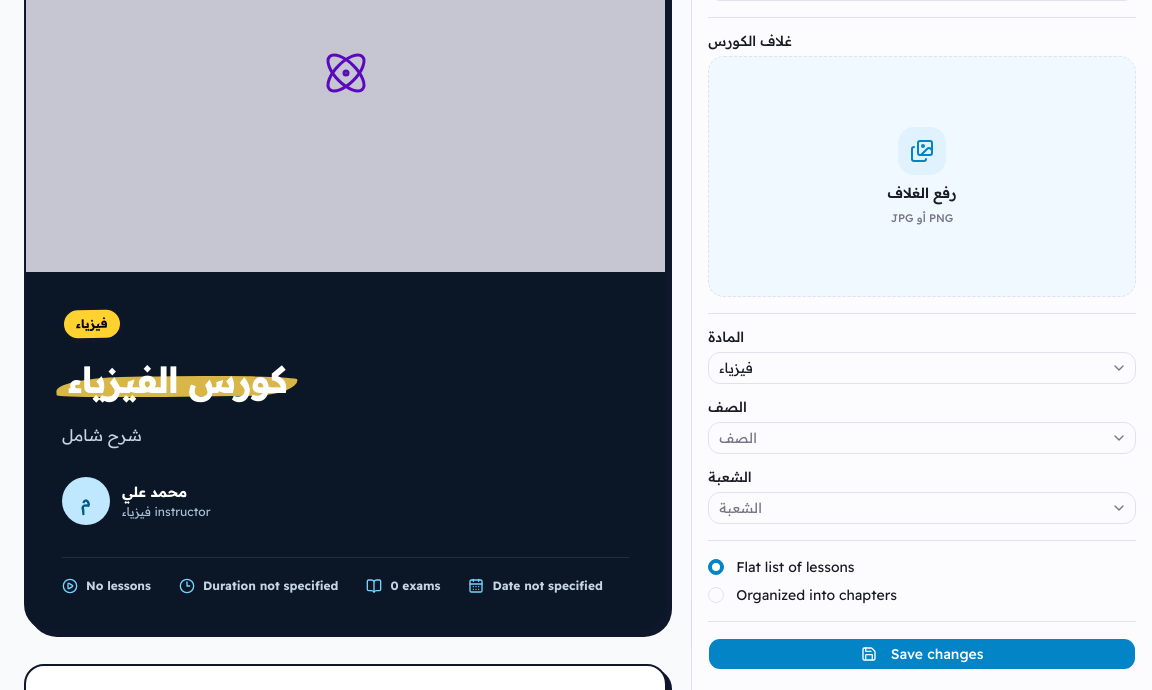
Scenario: CourseWorkspace › requires confirmation before changing chapter mode
(page scrolled)
Click the radio button named "Organized into chapters" next to "Organized into chapters" at (716, 595), box 708,587 -> 724,603
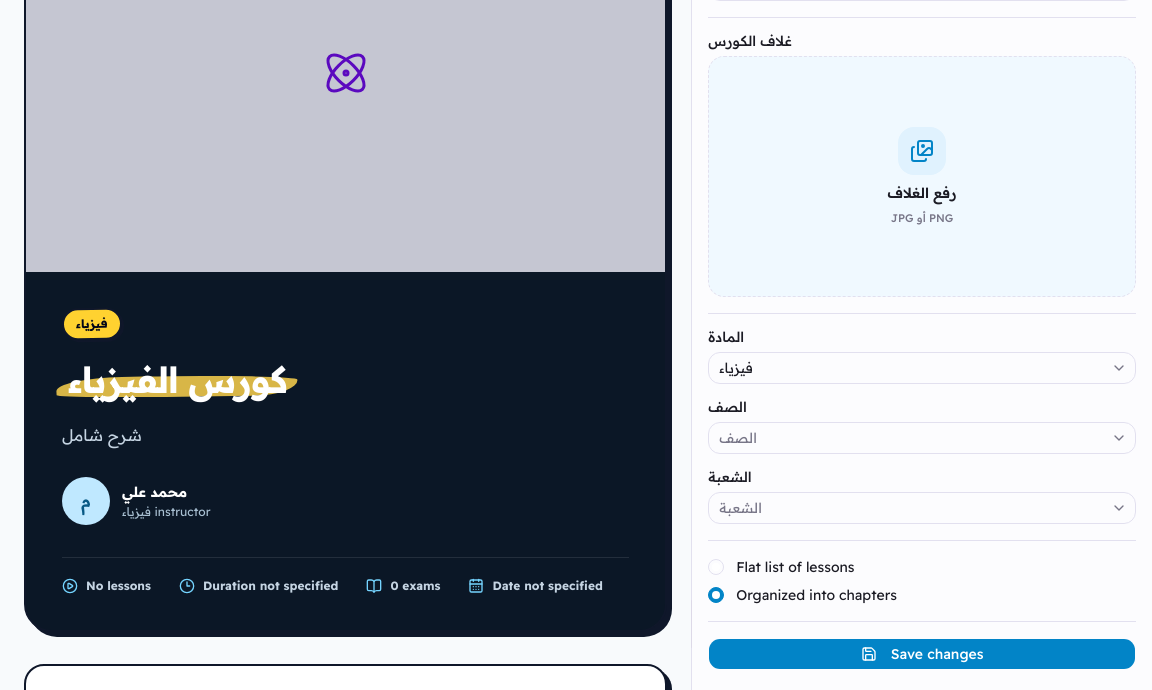
Click the button "Save changes" at (922, 654), box 708,638 -> 1136,670
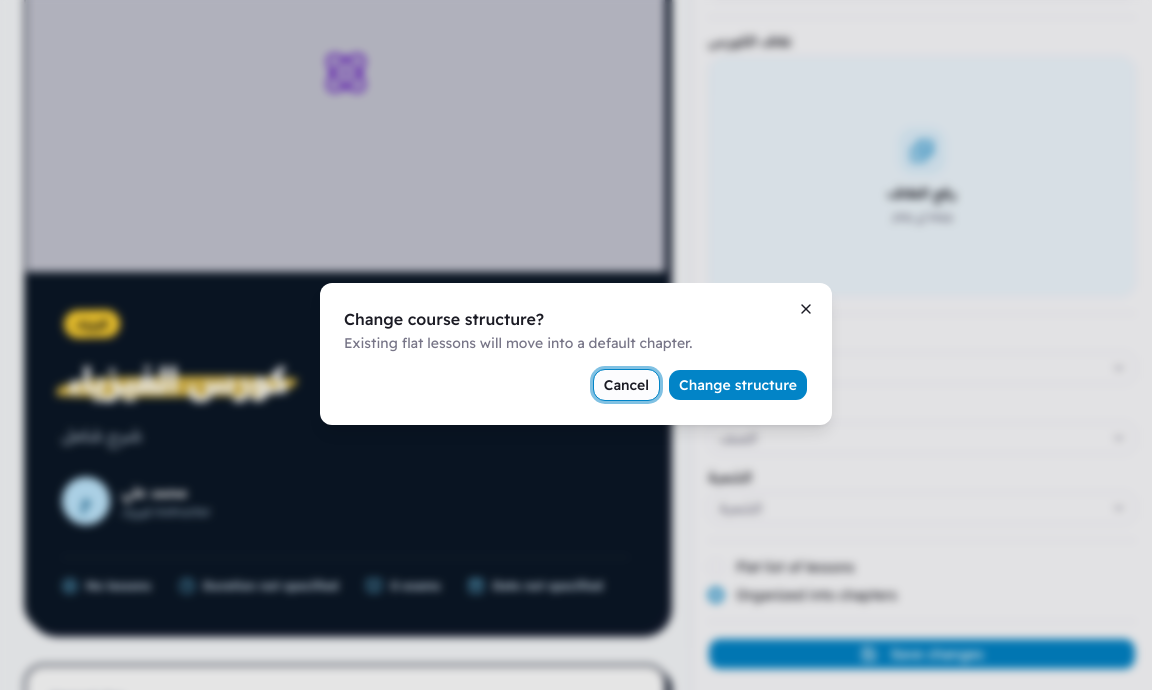
Now the dialog "Change course structure?" is shown, box 320,283 -> 832,425
